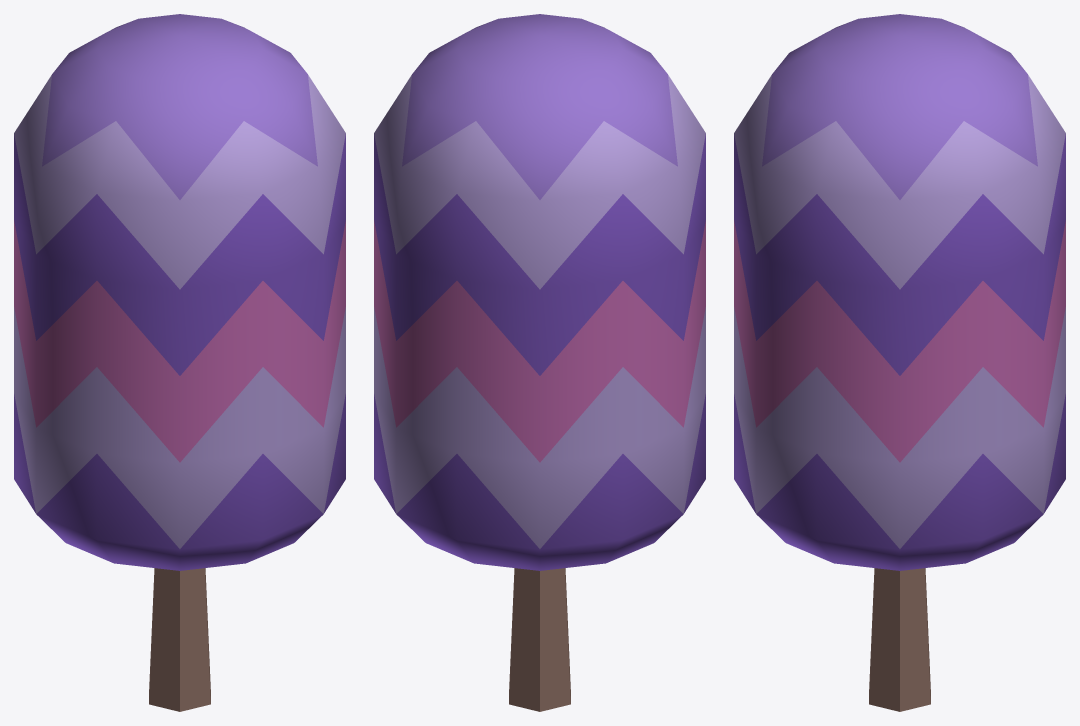
Rendered from fantasy_plant_021.fbx.
3 renders of one model, left to right at view 1: azimuth 30°, elevation 25°; view 2: azimuth 150°, elevation 25°; view 3: azimuth 270°, elevation 25°, orthographic.
Parts seen in each view (by area): view 1: fantasy_plant.021; view 2: fantasy_plant.021; view 3: fantasy_plant.021.
Part boxes in pixels (x1,y1,x2,y2): fantasy_plant.021: (14, 14, 345, 711); fantasy_plant.021: (374, 14, 705, 711); fantasy_plant.021: (734, 14, 1065, 711).
Size of the model in its own units: 301 by 661 by 301.
Materials: 1 (1 with a texture image).
